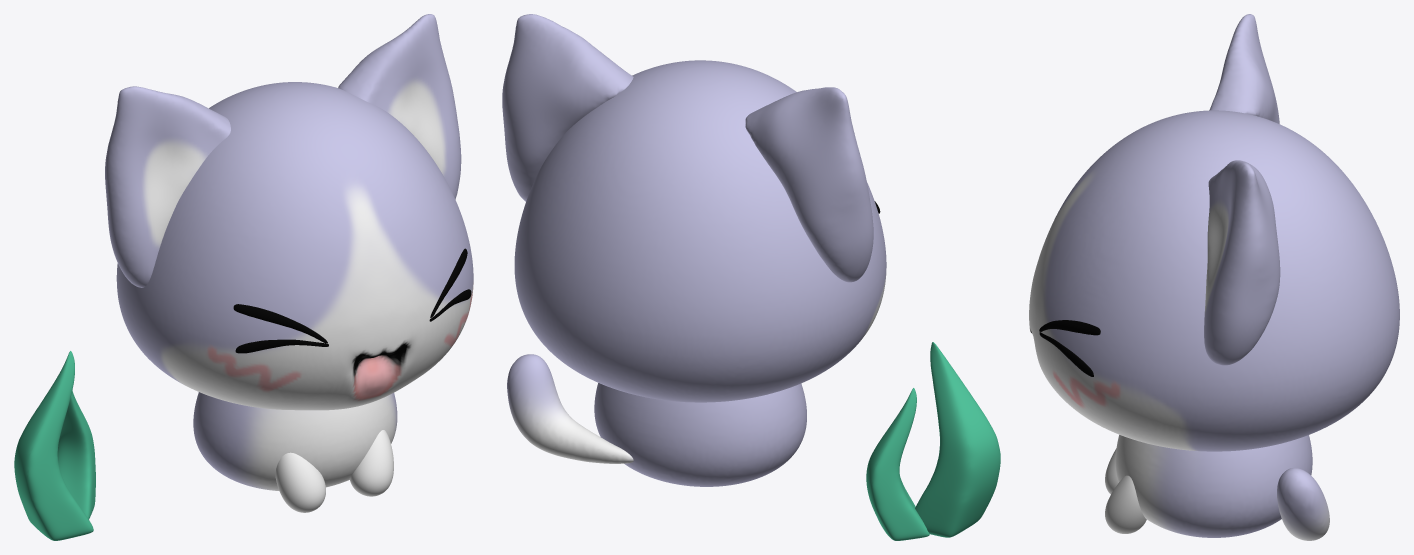
File: cute_cat_model.glb
3 views of the same model, side by side, from view 1: azimuth 30°, elevation 25°; view 2: azimuth 150°, elevation 25°; view 3: azimuth 270°, elevation 25° (orthographic). The views are drawn at different scales.
Visible parts, largest first — view 1: Object_11, Object_7, Object_18, Object_5, Object_14, Object_3, Object_9; view 2: Object_11, Object_7, Object_18, Object_5, Object_16, Object_3; view 3: Object_11, Object_7, Object_18, Object_16, Object_14, Object_9.
Part boxes in pixels (x1=…): Object_11: x1=116, y1=82, x2=473, y2=410; Object_7: x1=105, y1=14, x2=461, y2=287; Object_18: x1=193, y1=392, x2=397, y2=490; Object_5: x1=14, y1=351, x2=93, y2=540; Object_14: x1=275, y1=430, x2=393, y2=512; Object_3: x1=57, y1=390, x2=95, y2=519; Object_9: x1=233, y1=248, x2=471, y2=353; Object_11: x1=514, y1=60, x2=886, y2=402; Object_7: x1=502, y1=14, x2=873, y2=282; Object_18: x1=594, y1=383, x2=806, y2=486; Object_5: x1=915, y1=342, x2=1000, y2=537; Object_16: x1=507, y1=354, x2=633, y2=463; Object_3: x1=866, y1=388, x2=929, y2=540; Object_11: x1=1029, y1=110, x2=1399, y2=451; Object_7: x1=1204, y1=14, x2=1280, y2=365; Object_18: x1=1115, y1=435, x2=1312, y2=537; Object_16: x1=1277, y1=468, x2=1329, y2=540; Object_14: x1=1105, y1=448, x2=1146, y2=533; Object_9: x1=1039, y1=320, x2=1100, y2=376.
Bounding box in the file's own units: 5.88 × 5.13 × 4.02.
